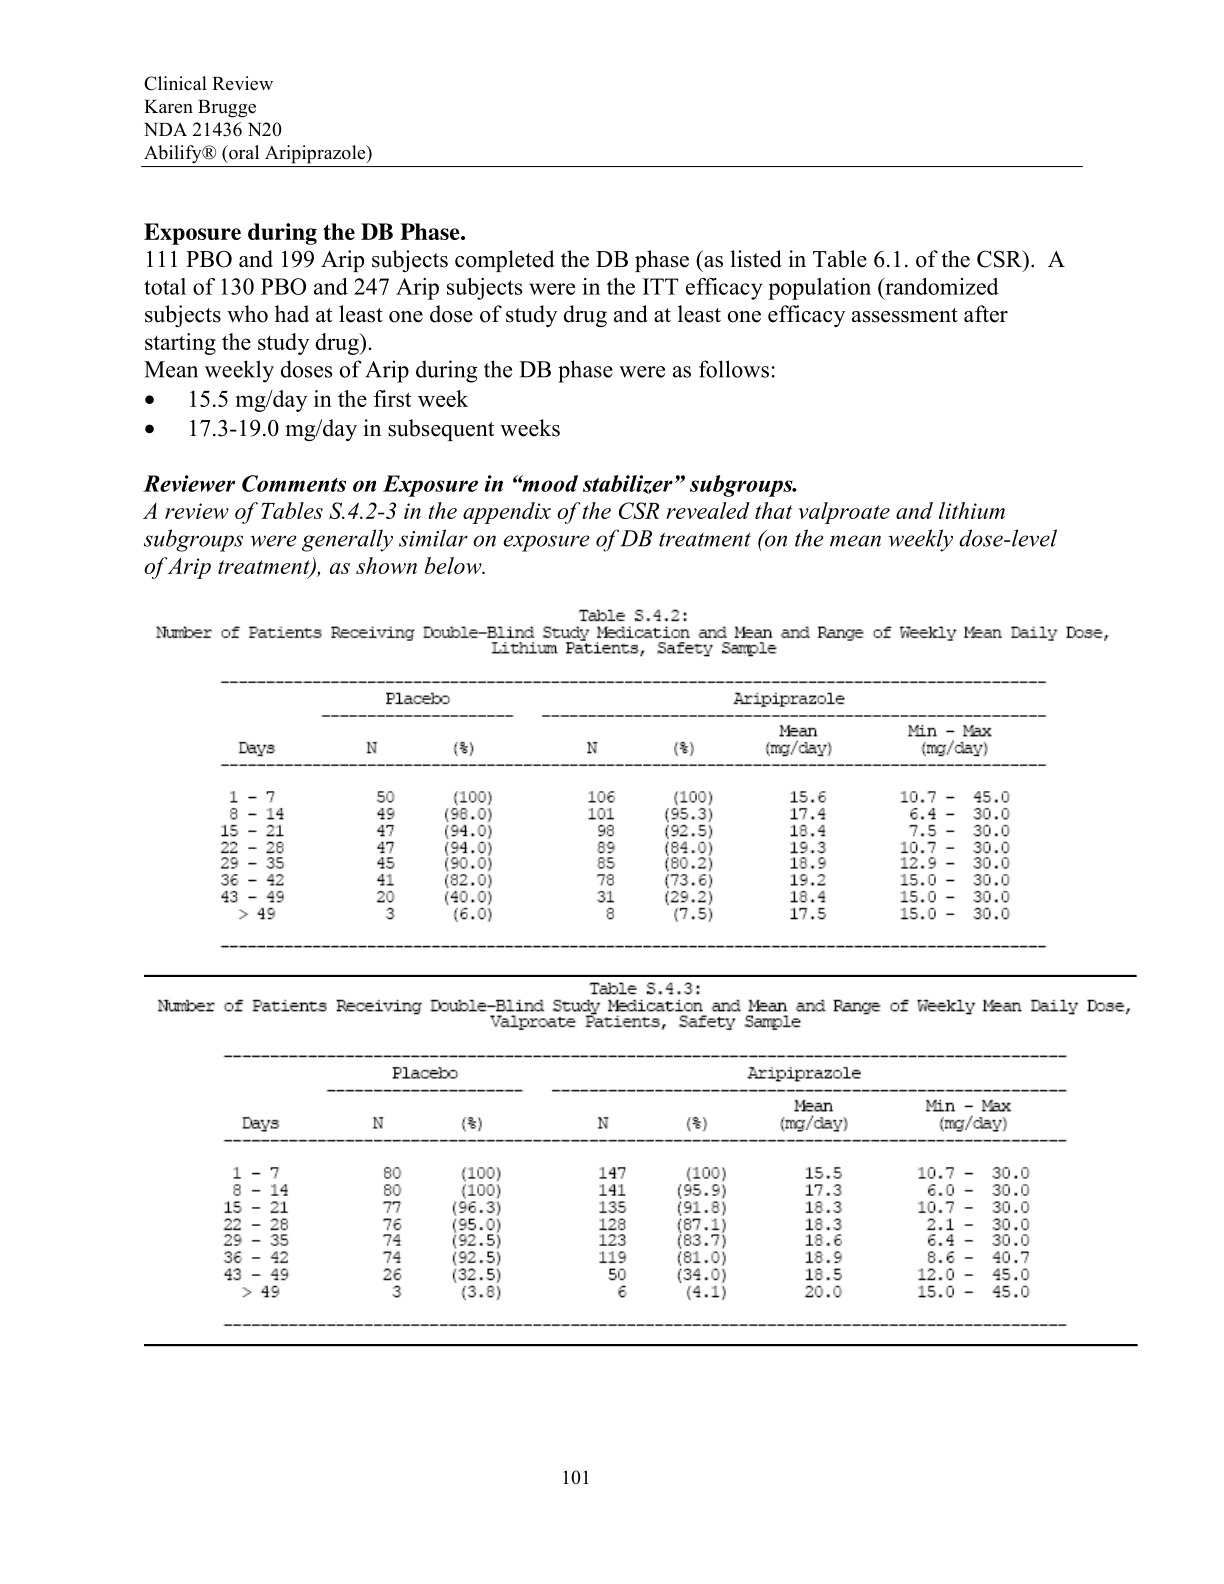partial_lined_merged_cells: (220, 1052, 1071, 1326), (221, 678, 1047, 950)
